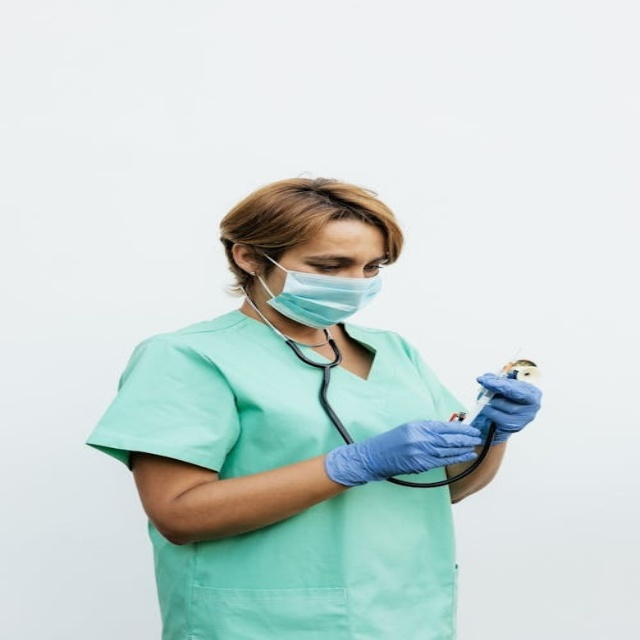Guantes: (326, 419, 485, 485), (469, 372, 542, 443)
Mascara: (257, 250, 383, 328)
Sin_gafas: (315, 263, 343, 272), (364, 262, 384, 272)
